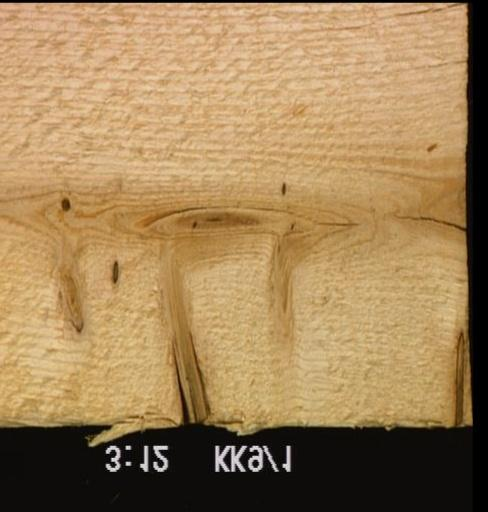dry_knot: (152, 253, 208, 423), (451, 329, 463, 425), (58, 194, 70, 212)
split: (390, 212, 463, 232), (308, 218, 361, 227)
